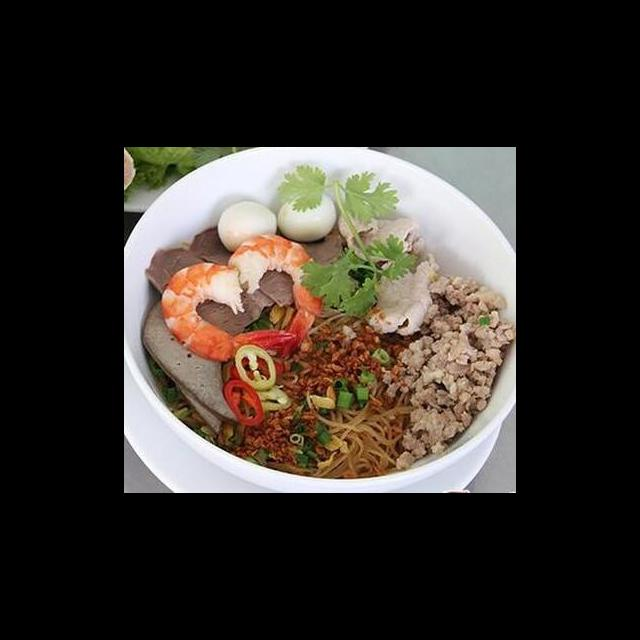banh hu tieu: (282, 382, 421, 485)
gan: (140, 286, 248, 433), (170, 362, 227, 438)
hu tieu: (124, 186, 516, 490)
thit bam: (375, 264, 516, 474)
thit heo: (187, 210, 354, 309), (140, 236, 279, 341), (364, 247, 445, 339), (336, 209, 424, 266)
tom: (156, 258, 301, 367), (221, 229, 328, 362)
trung: (272, 187, 338, 245), (213, 197, 281, 253)
